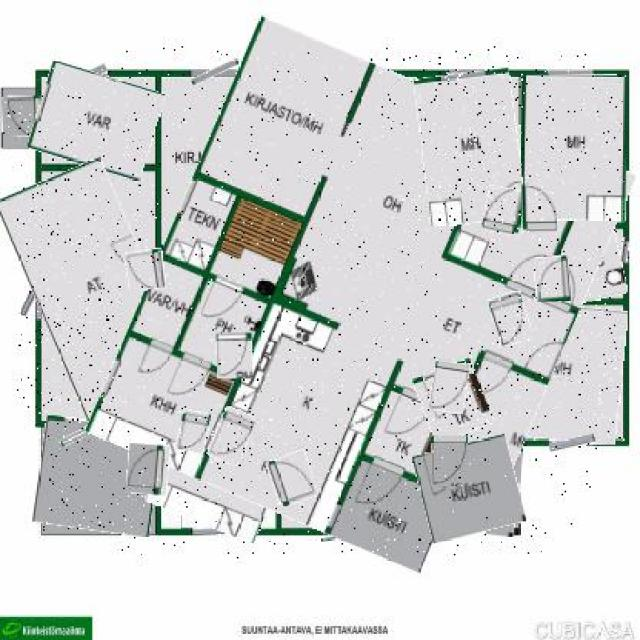door: (270, 452, 316, 503), (211, 409, 252, 465), (126, 443, 169, 495), (483, 186, 525, 234), (430, 361, 468, 414), (491, 292, 529, 345), (430, 437, 468, 489), (521, 184, 557, 233), (126, 249, 166, 291), (217, 332, 252, 378), (3, 97, 43, 137), (535, 257, 571, 301), (178, 411, 210, 454)
window: (57, 411, 141, 437), (28, 243, 50, 319), (550, 435, 596, 451), (191, 65, 238, 80), (318, 68, 376, 78), (320, 530, 378, 538), (546, 68, 592, 78), (80, 66, 108, 82), (192, 528, 230, 538), (448, 72, 495, 77), (622, 237, 629, 261)
zone: (122, 46, 600, 559), (17, 163, 175, 426), (492, 302, 625, 442), (154, 411, 286, 535), (419, 69, 523, 225), (520, 75, 626, 220), (37, 420, 160, 534), (34, 68, 160, 174), (417, 440, 521, 538), (417, 440, 521, 535), (206, 249, 280, 334), (208, 336, 280, 416), (418, 362, 489, 440), (153, 336, 210, 418), (566, 226, 625, 300), (154, 246, 206, 329)
